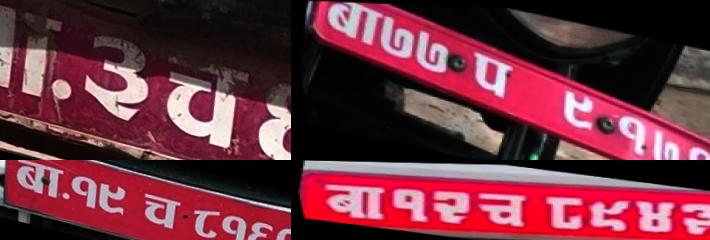0: (266, 220, 291, 240)
1: (375, 185, 439, 223), (605, 110, 652, 156), (63, 168, 102, 212), (213, 208, 249, 240), (674, 139, 710, 159)
2: (416, 185, 480, 224)
3: (64, 19, 166, 133), (665, 198, 710, 234)
4: (239, 62, 291, 160), (620, 197, 682, 232)
6: (239, 214, 277, 240)
7: (406, 25, 459, 75), (370, 11, 420, 57), (637, 124, 684, 160)
8: (526, 191, 596, 230), (183, 199, 222, 240)
9: (548, 86, 603, 132), (575, 194, 636, 231), (90, 174, 131, 219)
ba: (0, 0, 80, 111), (309, 180, 394, 222), (317, 1, 388, 50), (7, 160, 68, 203)
cha: (142, 37, 262, 158), (459, 187, 538, 230), (132, 186, 187, 233)
pa: (451, 44, 523, 101)
